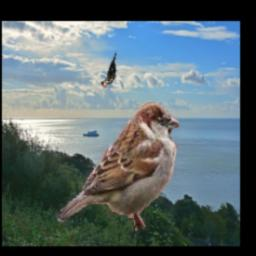Sparrow: (56, 103, 180, 232)
Woodpecker: (100, 49, 116, 90)
